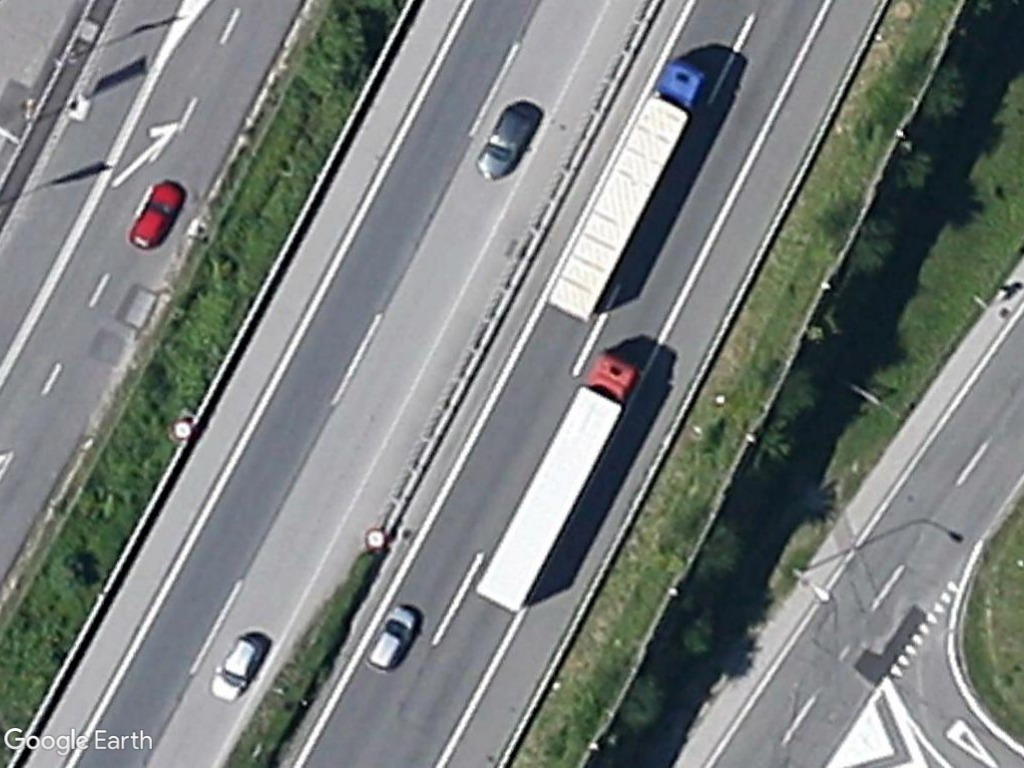car: (474, 99, 539, 183), (359, 595, 425, 673), (206, 629, 266, 705), (125, 176, 183, 252)
longvehicle: (466, 351, 647, 621), (545, 55, 713, 326)
